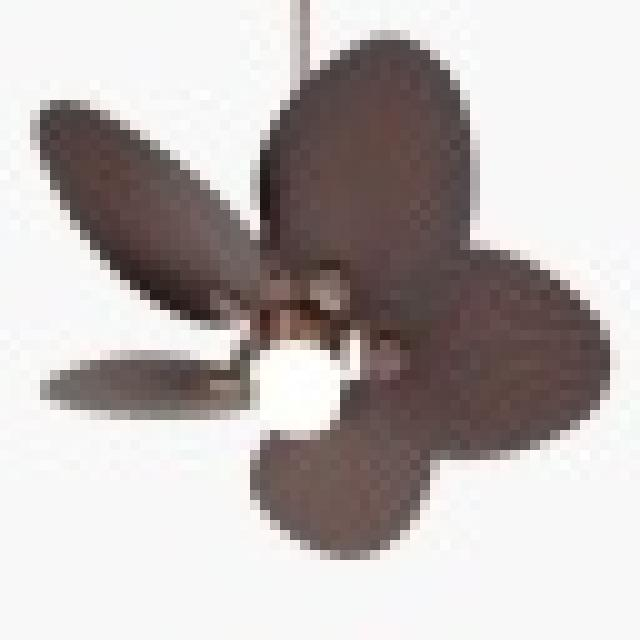Bulb: (48, 49, 632, 539)
